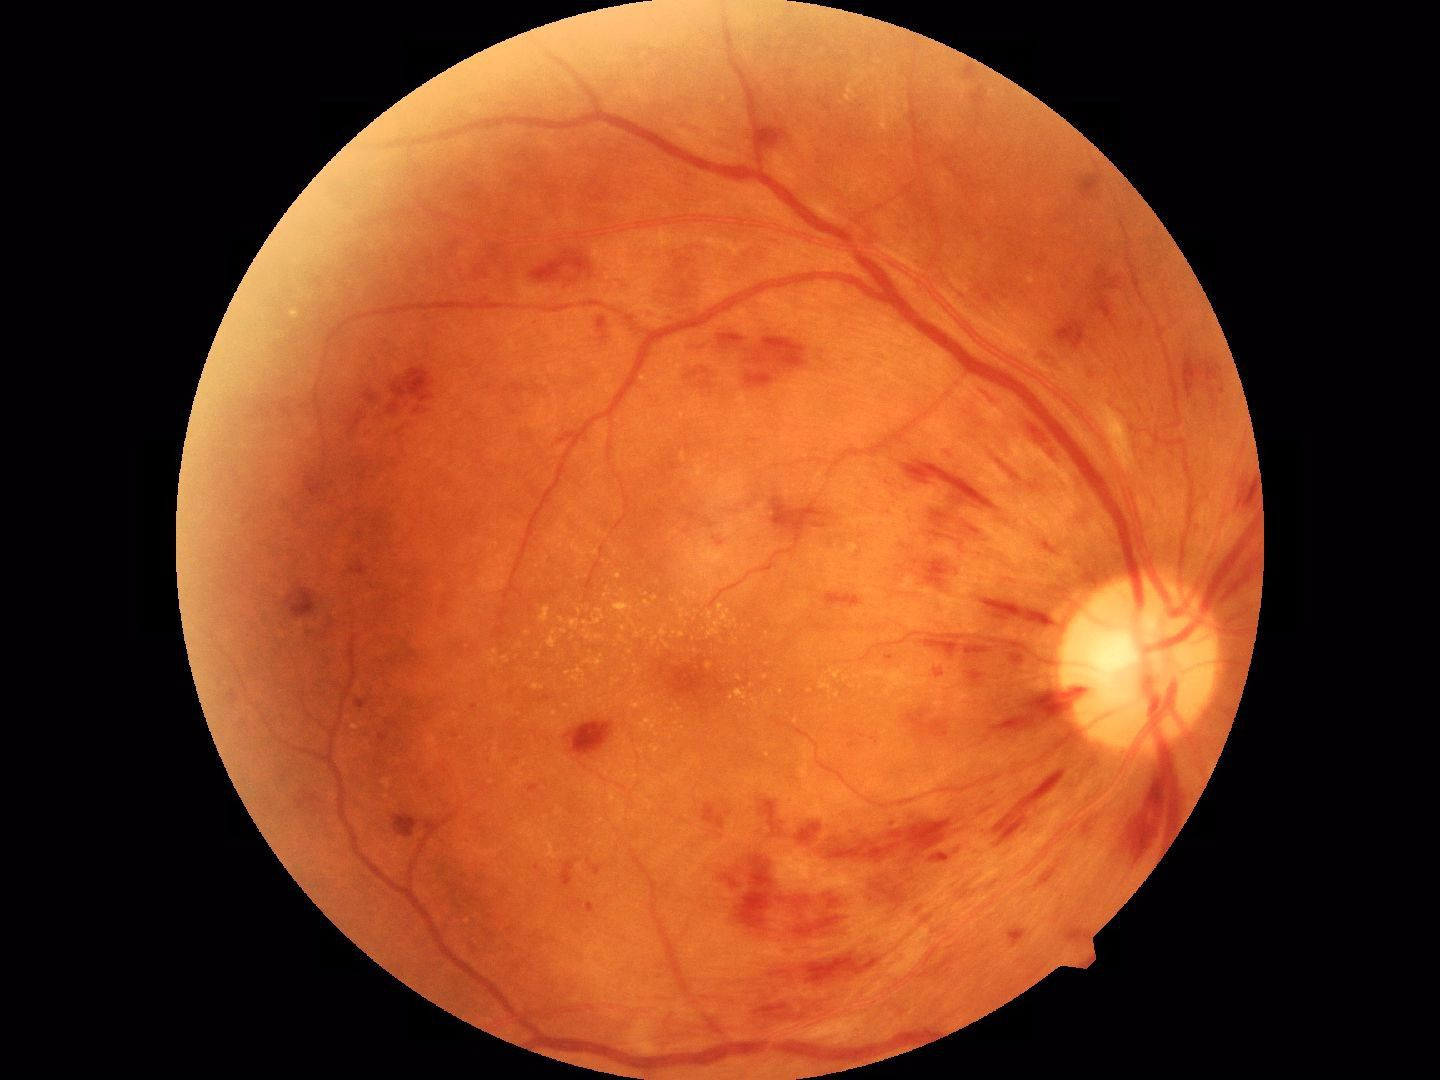Microaneurysms: (718, 811, 960, 997), (899, 466, 1047, 725), (364, 349, 448, 438), (703, 322, 785, 400), (539, 717, 622, 767), (536, 244, 595, 302)
Optic-Disc: (1062, 566, 1217, 740)
Venules: (805, 206, 1082, 430)
